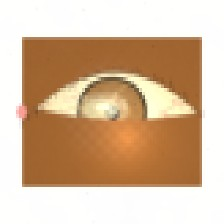corneal_ulcer: (71, 85, 131, 133)
